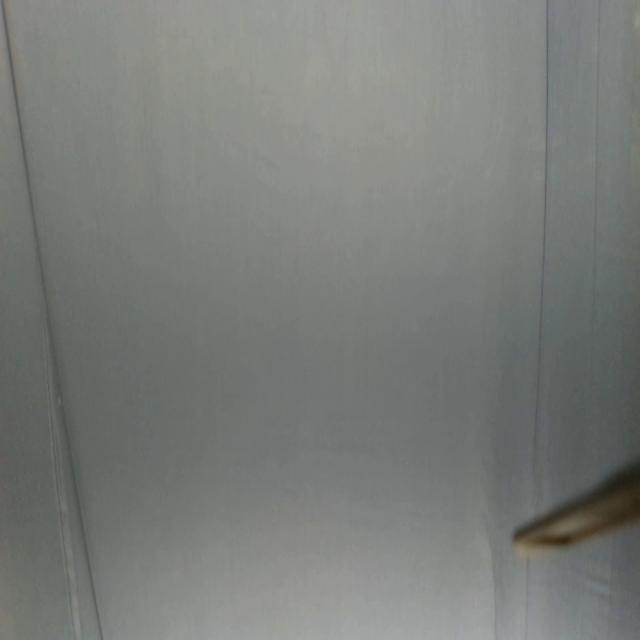crease: (0, 0, 105, 640), (532, 0, 552, 485), (592, 0, 603, 340), (520, 557, 534, 640), (490, 549, 500, 640)
